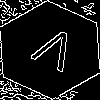V: (25, 25, 81, 81)
